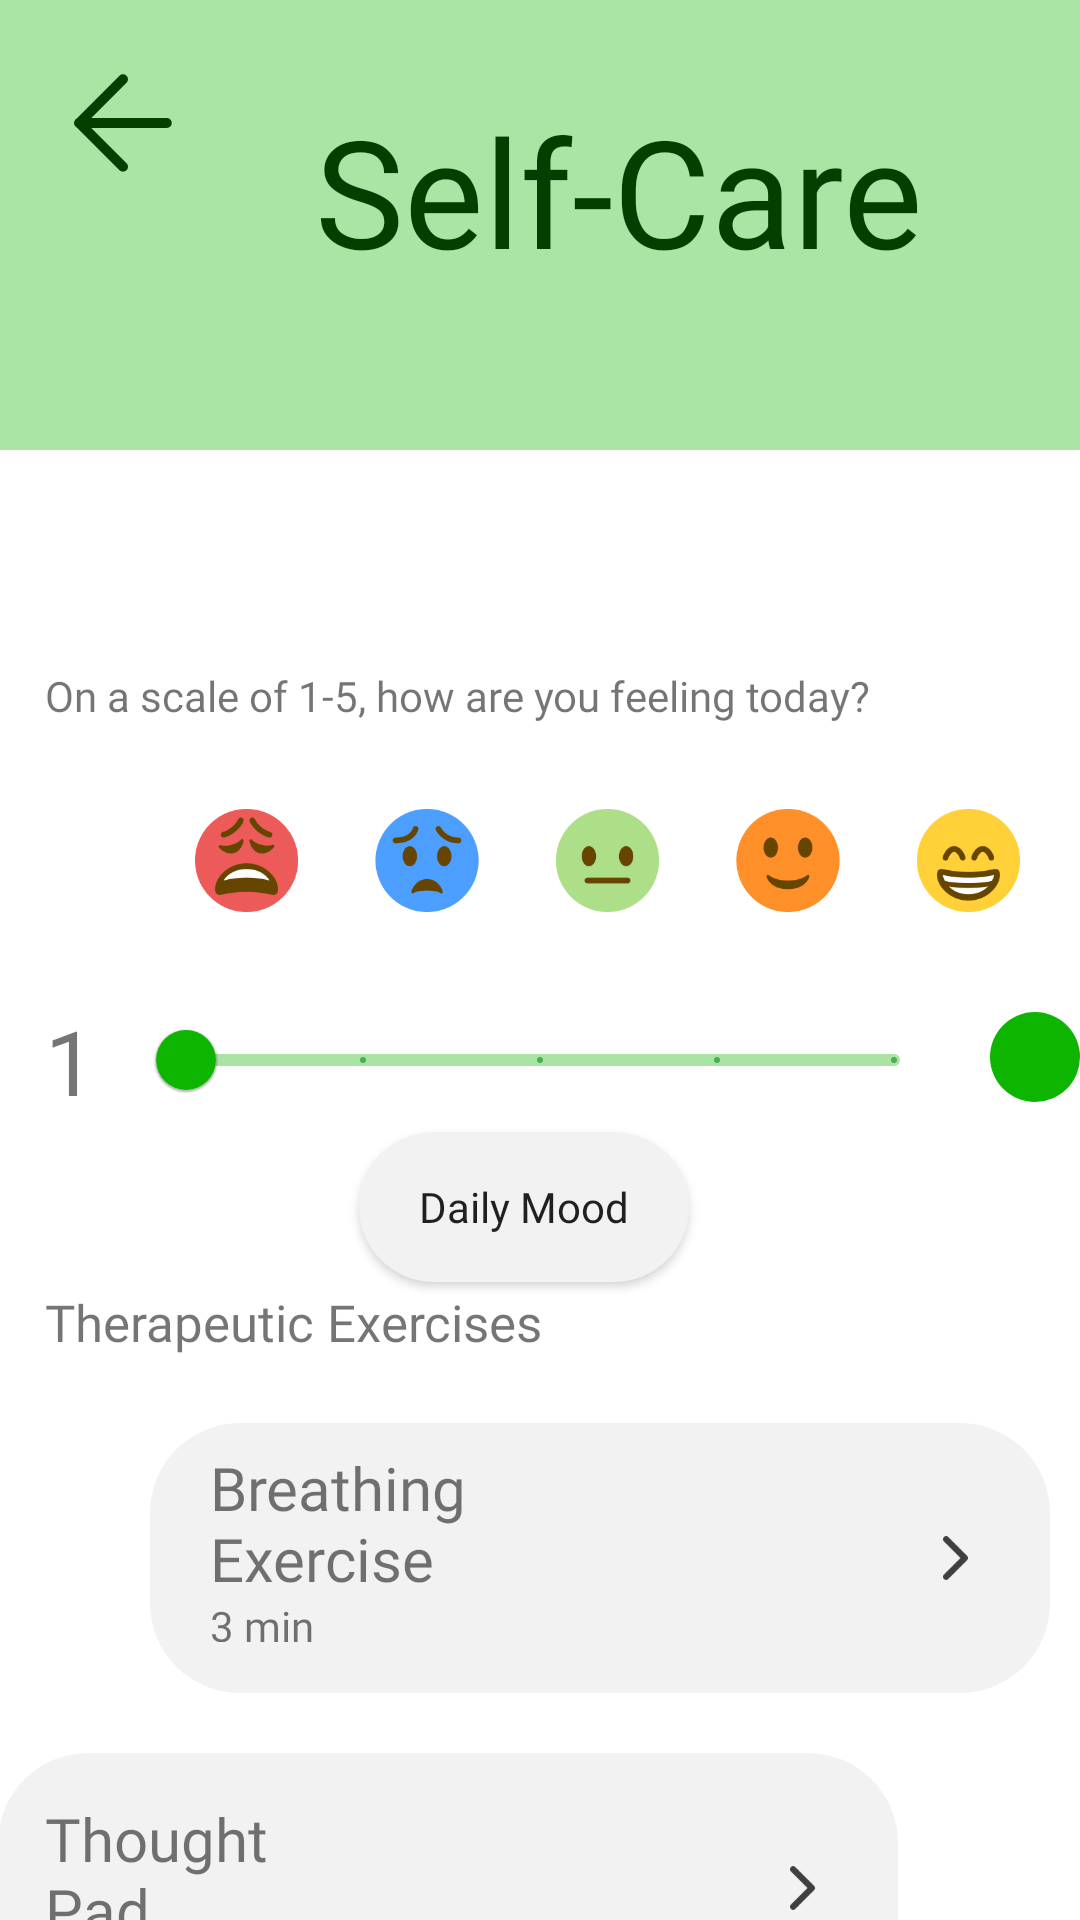

Icon click points for this 1080 x 1920 phone screenshot, format [x,y]:
arrow left: [123,123]
